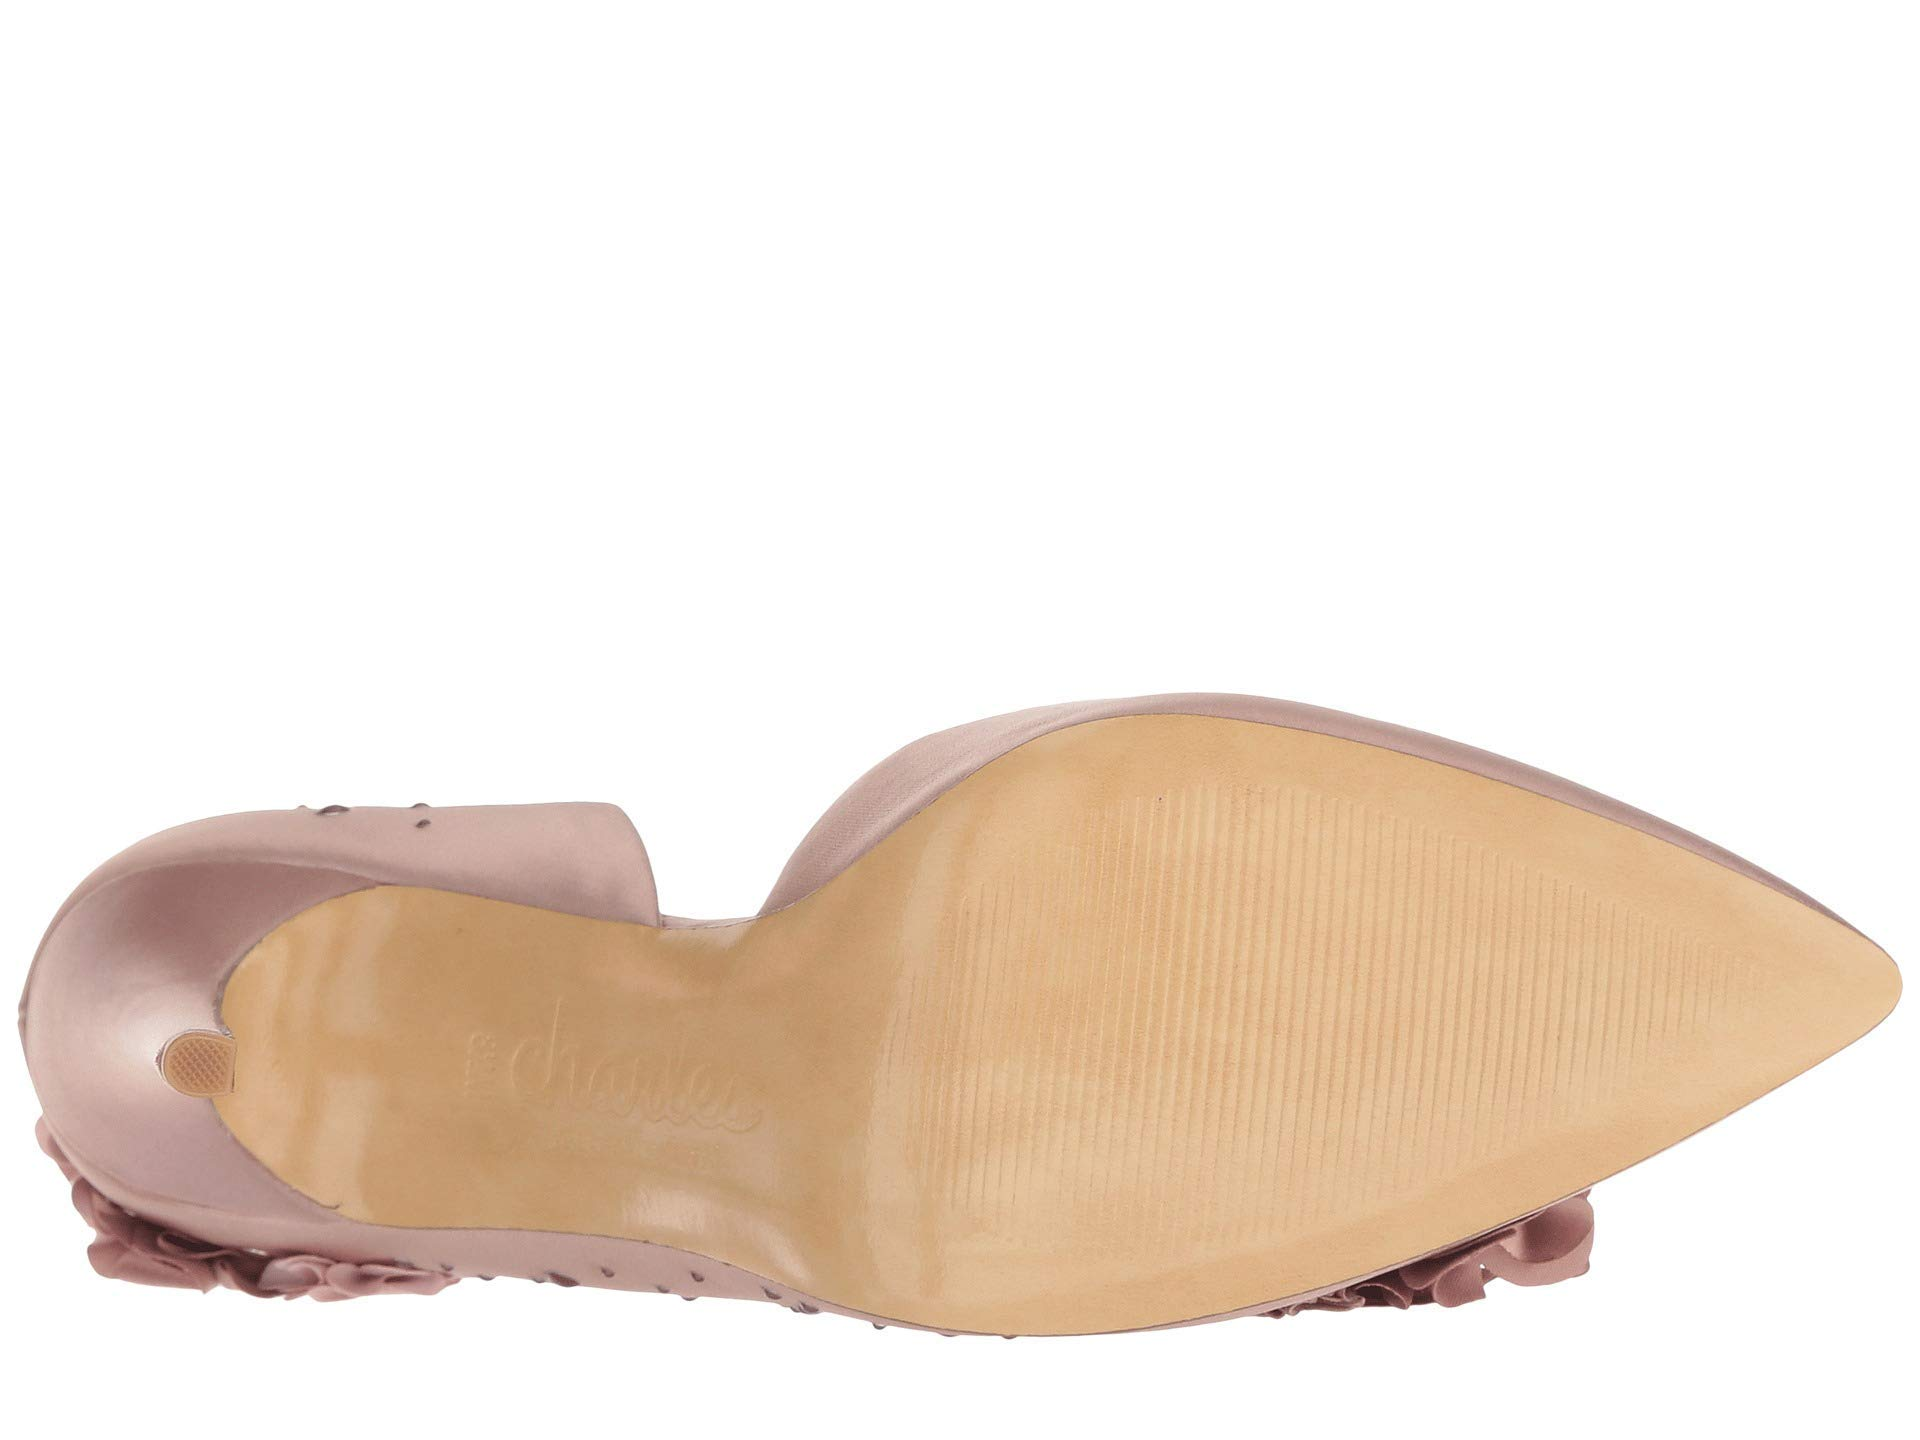line: (1070, 811, 1587, 1166)
quad: (178, 1048, 224, 1075)
